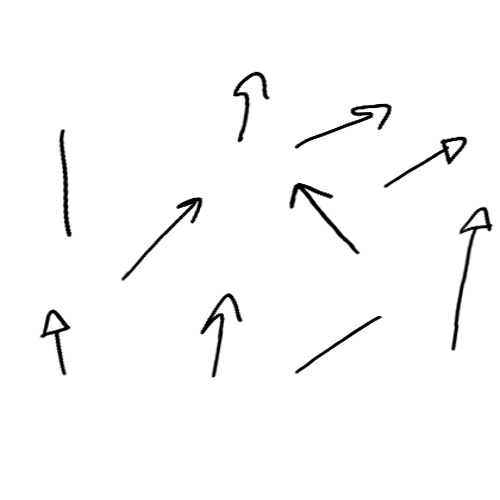arrow: (120, 194, 201, 275), (290, 312, 381, 378), (455, 206, 490, 353), (290, 183, 359, 257), (382, 134, 470, 190), (295, 101, 392, 148), (198, 292, 243, 380), (230, 72, 270, 146), (39, 308, 73, 375), (55, 130, 73, 240)
